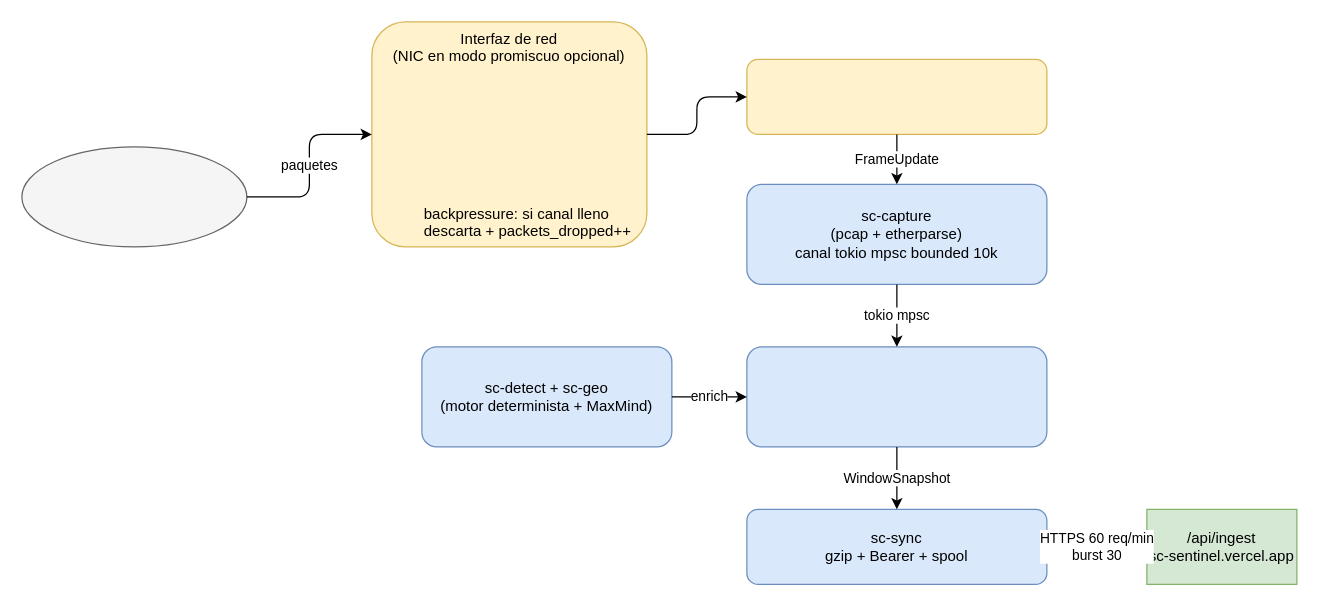
Some shapes in this 1319 by 606 pixel diagram are drawn without their labels. The shapes that lost their labels are listed below. From the top down, each one's box as (x1, y1, x2, y2) in pixels, then its label:
(746, 58, 1047, 134): Npcap (Windows) / libpcap (Linux) requiere privilegios o CAP_NET_RAW
(21, 146, 247, 247): Red LAN / Internet
(746, 346, 1047, 447): sc-aggregate ventanas 30-60 s WindowSnapshot (2-10 KB)
